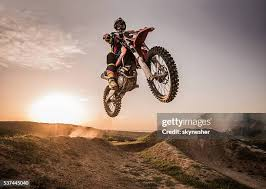motorcycle: (103, 25, 178, 116)
